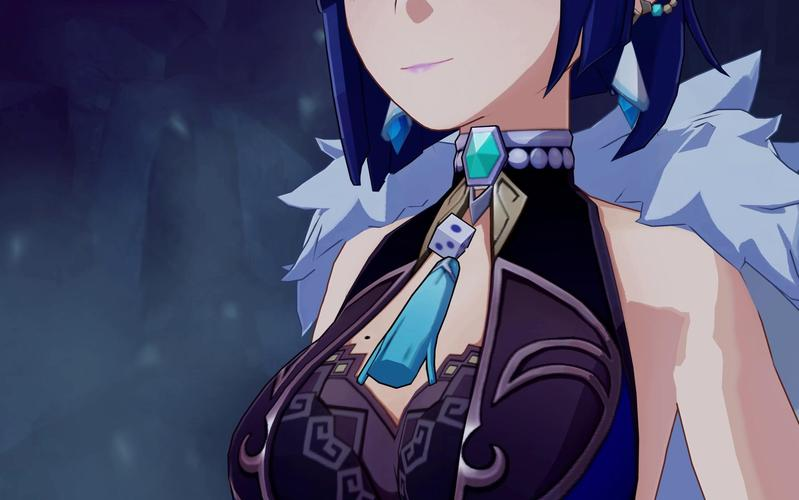夜兰: (223, 6, 799, 500)
